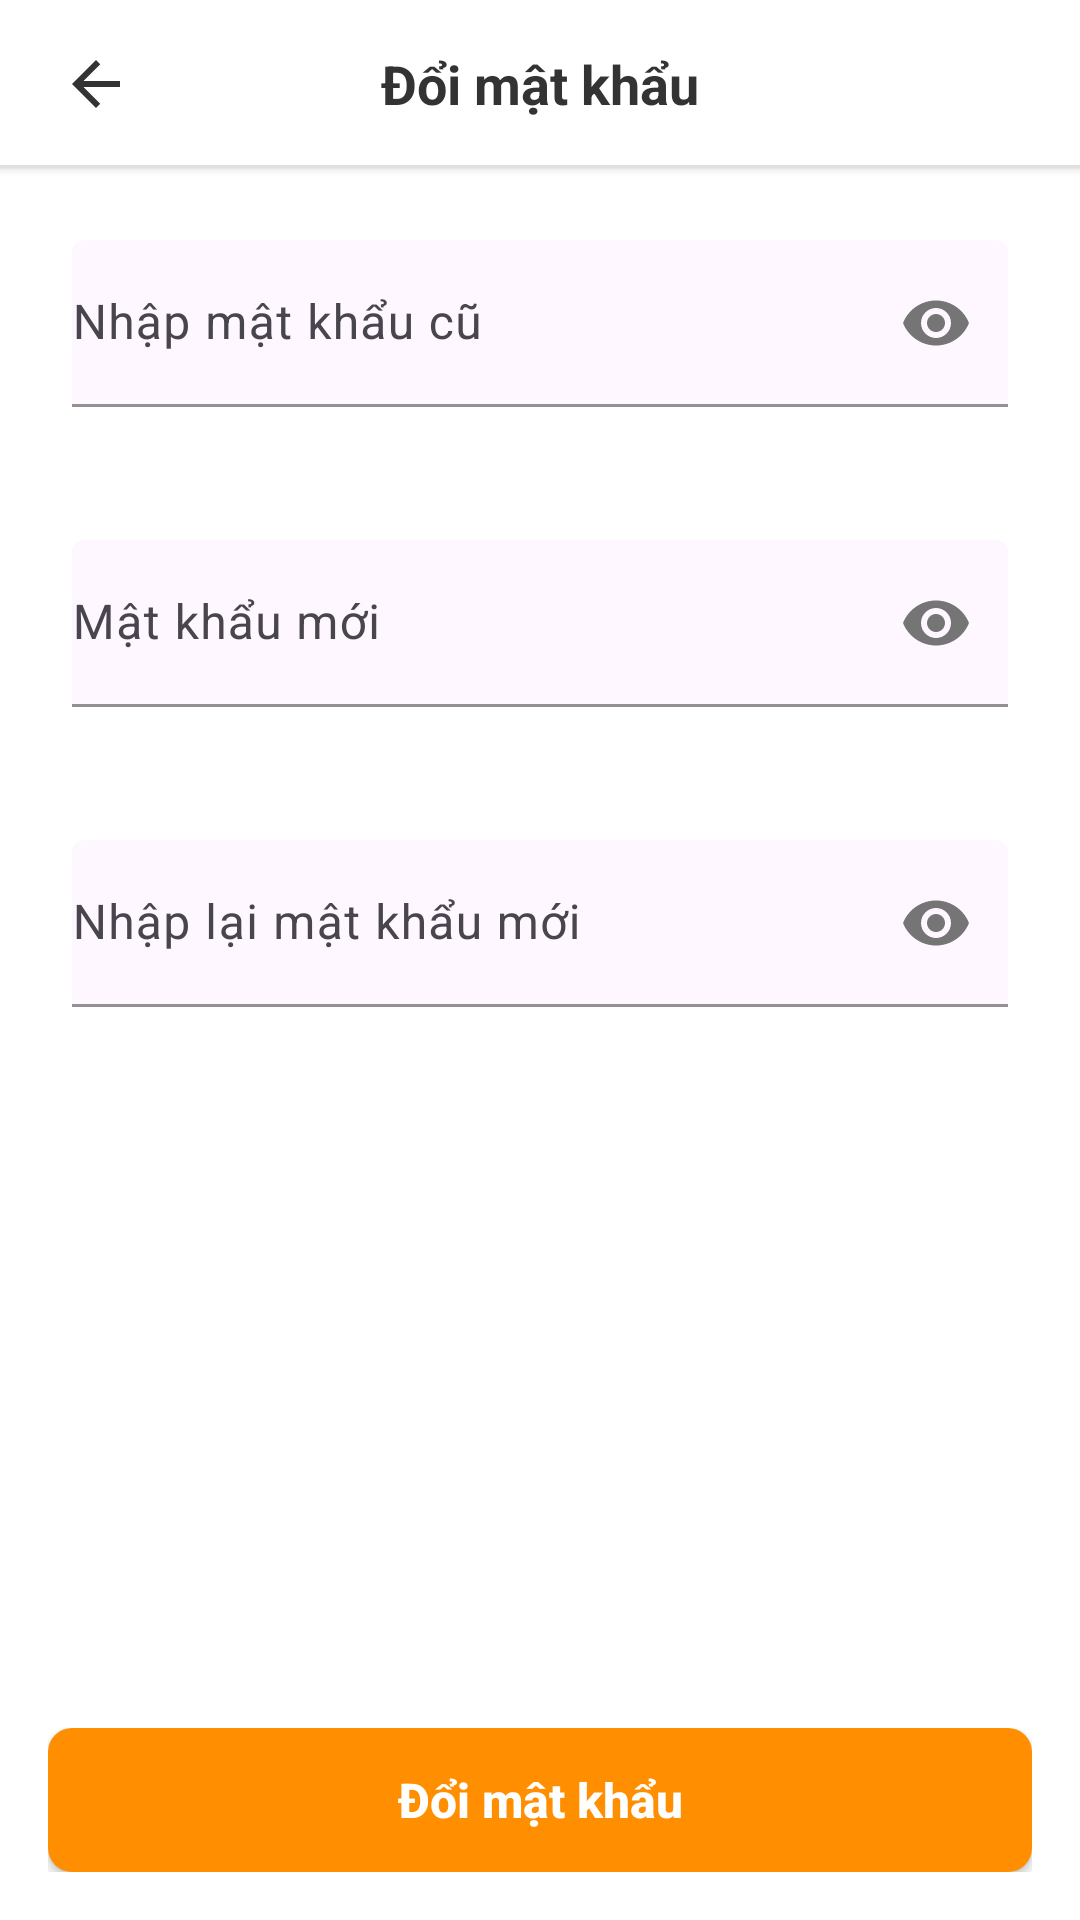

Where icons sit on this 1080 x 1920 app screen, as (x1, y1, x2, y2):
Back Button: (72, 60, 120, 108)
